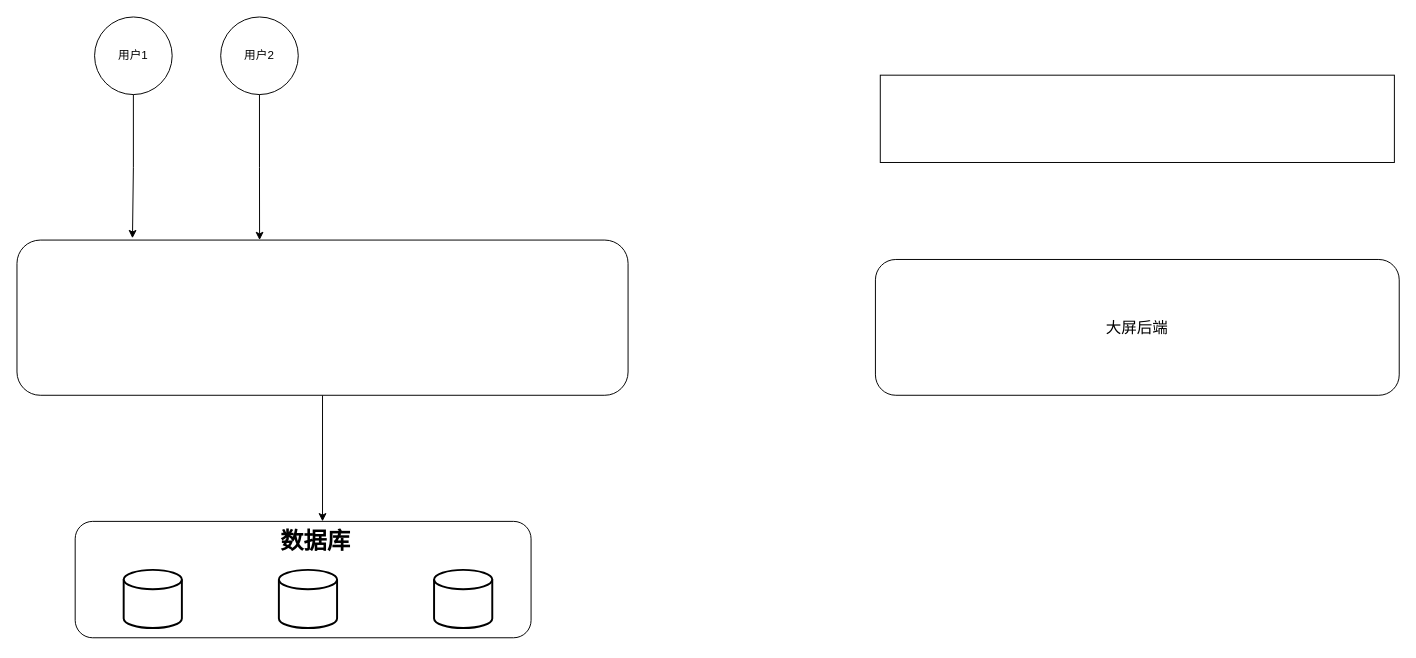
This 1416x658 diagram has some shape labels left out. The centre of each missing label's shape, as x and y in pixels:
业务服务中心: point 322,317
大屏前端: point 1136,118
